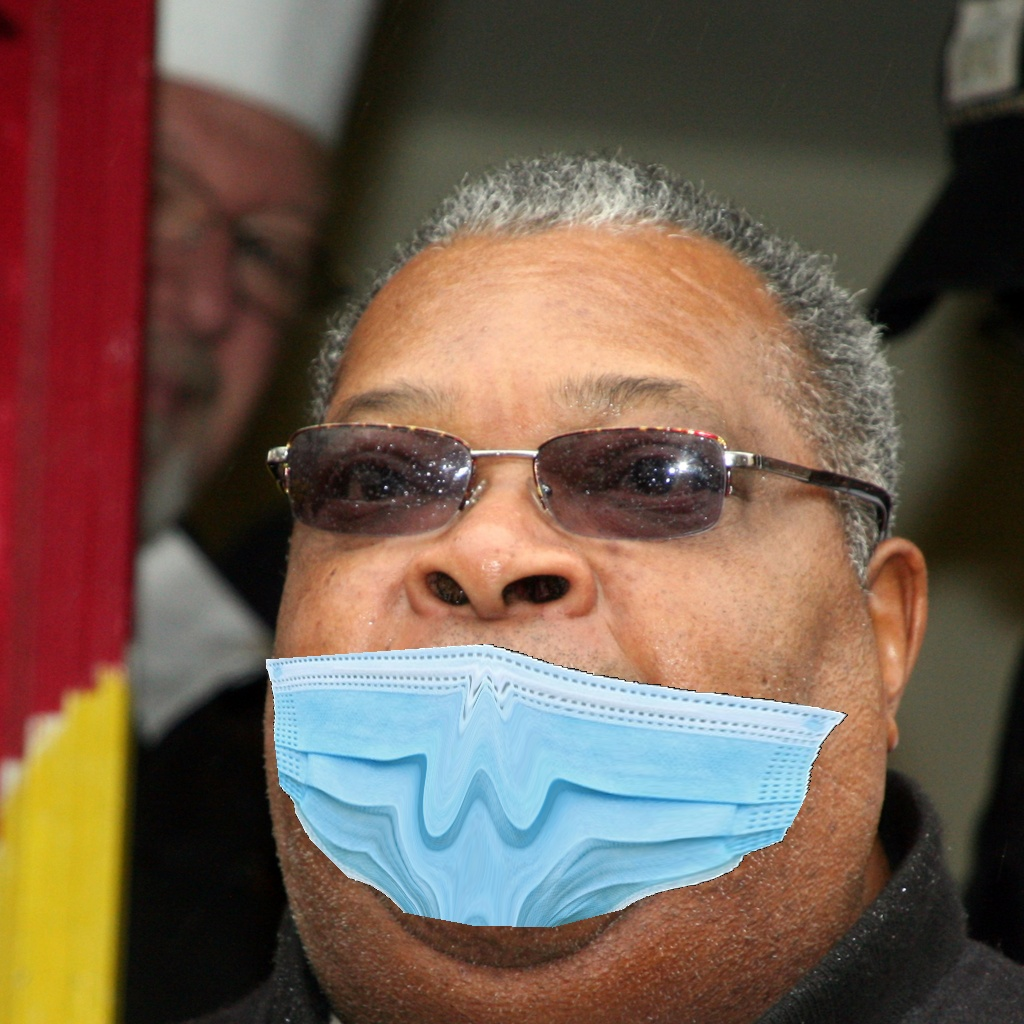mascarilla_mal_puesta: (249, 373, 944, 963)
